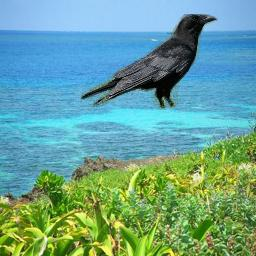Crow: (80, 14, 218, 110)
